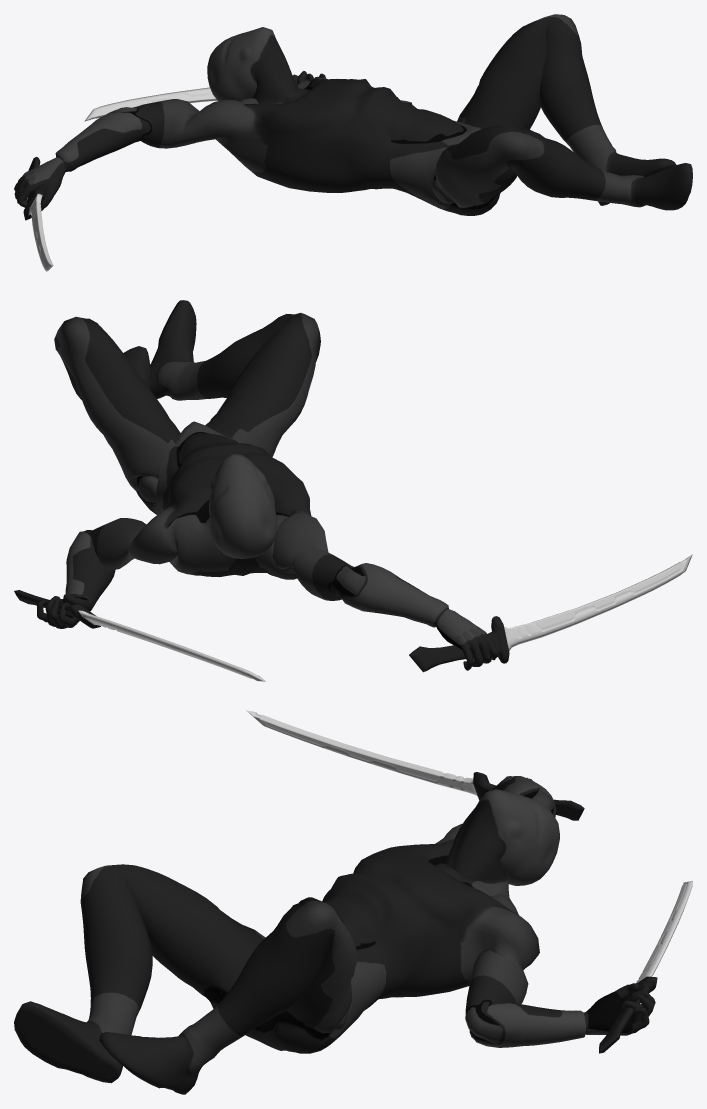
3 views of the same model, one above another, from view 1: azimuth 30°, elevation 25°; view 2: azimuth 150°, elevation 25°; view 3: azimuth 270°, elevation 25° (orthographic). The views are drawn at different scales.
Visible parts, largest first — view 1: Cyborg_Ninja_Killer, Sword_l, Sword_l001; view 2: Cyborg_Ninja_Killer, Sword_l001, Sword_l; view 3: Cyborg_Ninja_Killer, Sword_l001, Sword_l.
Part boxes in pixels (x1,y1,x2,y2): Cyborg_Ninja_Killer: (14,14,692,215); Sword_l: (84,74,369,121); Sword_l001: (23,157,53,271); Cyborg_Ninja_Killer: (37,300,498,670); Sword_l001: (409,554,692,672); Sword_l: (14,590,265,681); Cyborg_Ninja_Killer: (14,776,655,1094); Sword_l001: (246,710,584,820); Sword_l: (599,880,692,1053).
Size of the model in its own units: 192 by 52.7 by 159.
Materials: 2 (2 with a texture image).
